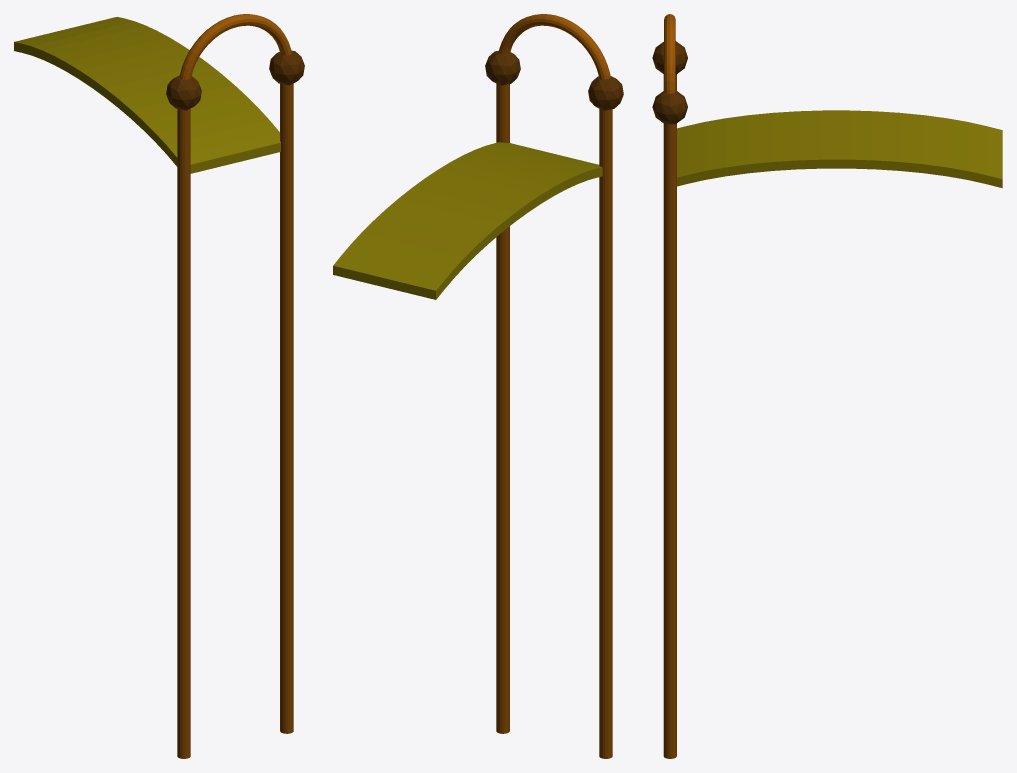
File: bridge.fbx
3 views of the same model, side by side, from view 1: azimuth 30°, elevation 25°; view 2: azimuth 150°, elevation 25°; view 3: azimuth 270°, elevation 25° (orthographic). The views are drawn at different scales.
Parts seen in each view (by area): view 1: Cube.001, Cylinder.001, Cylinder, Torus, Icosphere, Icosphere.001; view 2: Cube.001, Cylinder.001, Cylinder, Torus, Icosphere, Icosphere.001; view 3: Cube.001, Cylinder, Torus, Icosphere.001, Icosphere.
Part boxes in pixels (x1,y1,x2,y2): Cube.001: (14,17,280,173); Cylinder.001: (177,108,190,758); Cylinder: (280,83,293,733); Torus: (179,14,291,79); Icosphere: (166,75,201,110); Icosphere.001: (269,50,304,85); Cube.001: (333,142,602,299); Cylinder.001: (599,109,612,758); Cylinder: (496,83,509,733); Torus: (498,14,610,79); Icosphere: (588,76,623,110); Icosphere.001: (485,50,520,85); Cube.001: (677,110,1002,188); Cylinder: (663,123,676,758); Torus: (664,14,675,93); Icosphere.001: (652,90,687,124); Icosphere: (652,41,687,74).
Size of the model in its own units: 336 by 1755 by 783.
